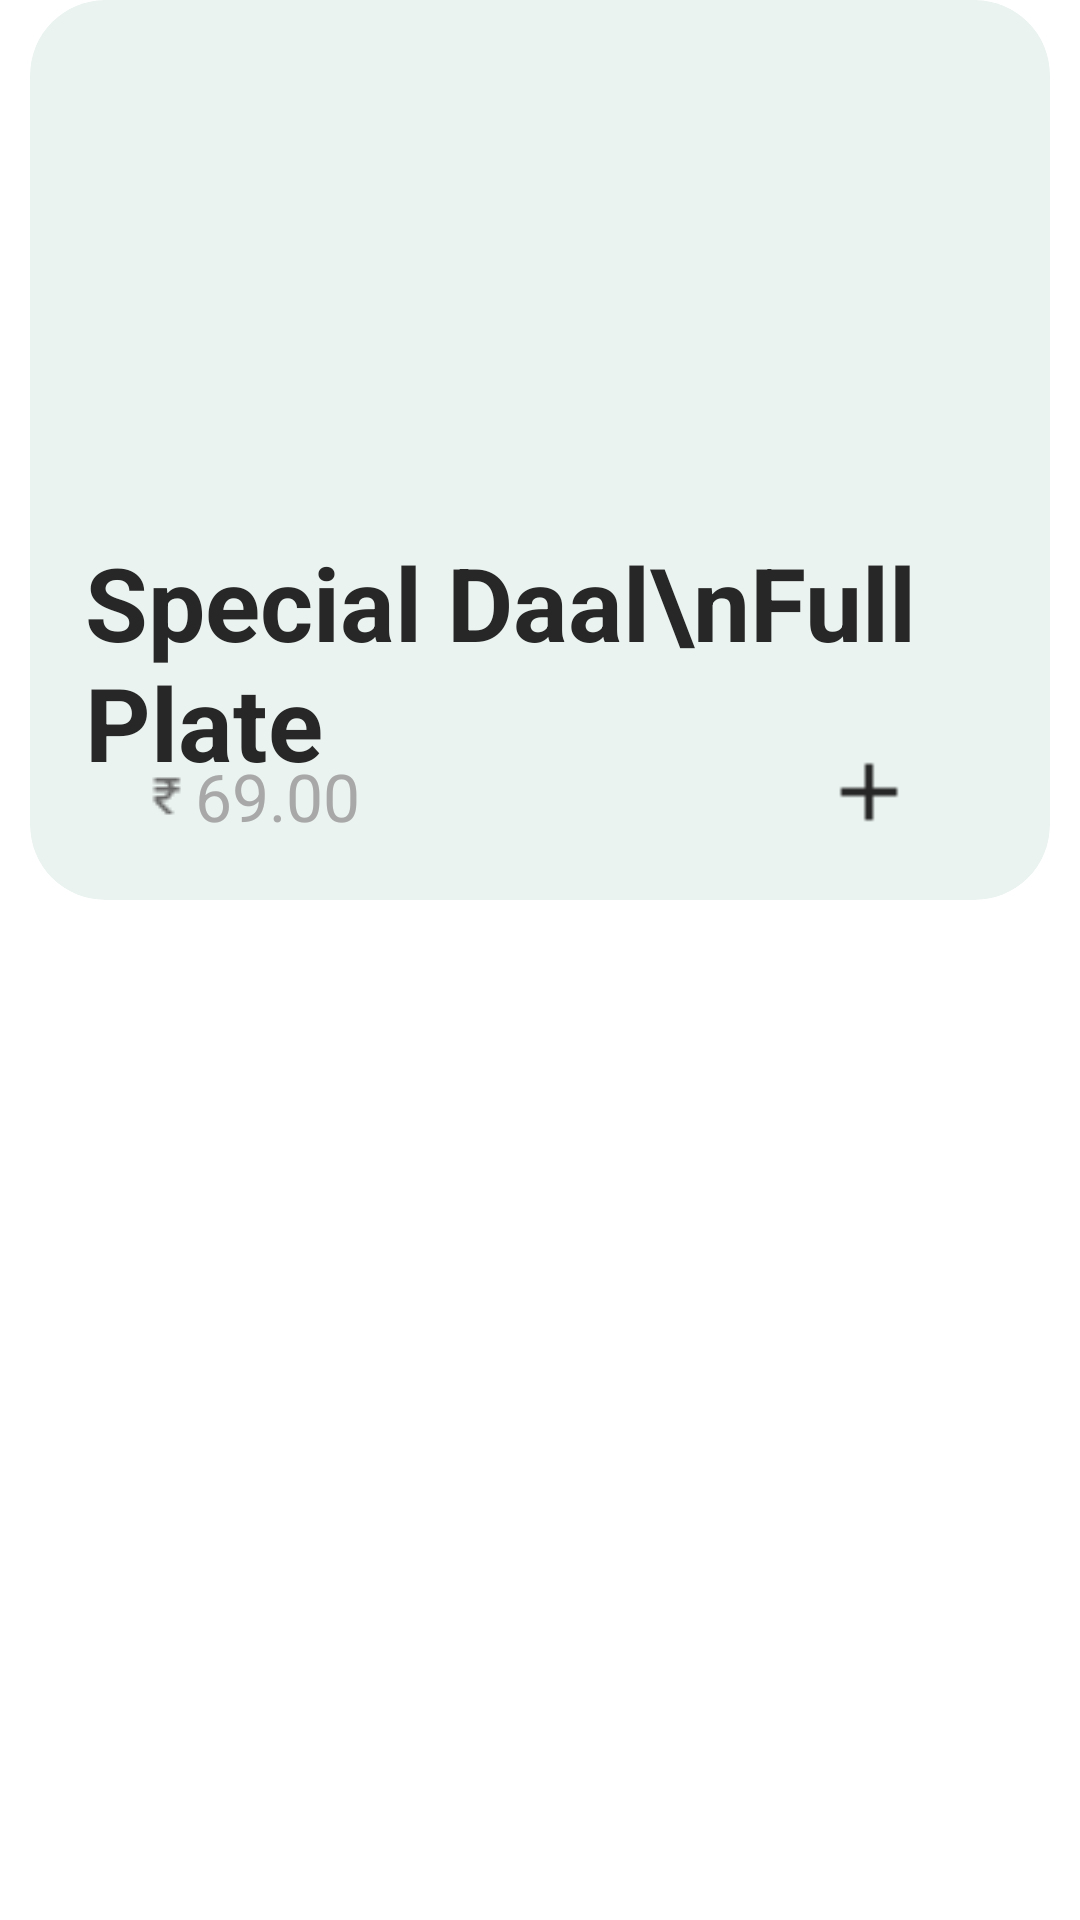

Named icons in this screenshot (1080px x 1920px) and their bounding boxes, bbox=[x1, y1, x2, y2]:
plus: bbox=[839, 762, 899, 822]
